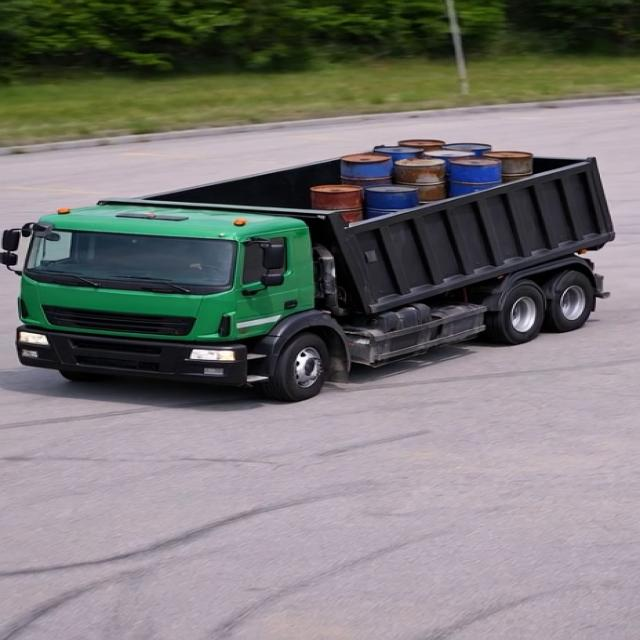Box: (112, 138, 604, 234)
Truck: (10, 104, 624, 402)
